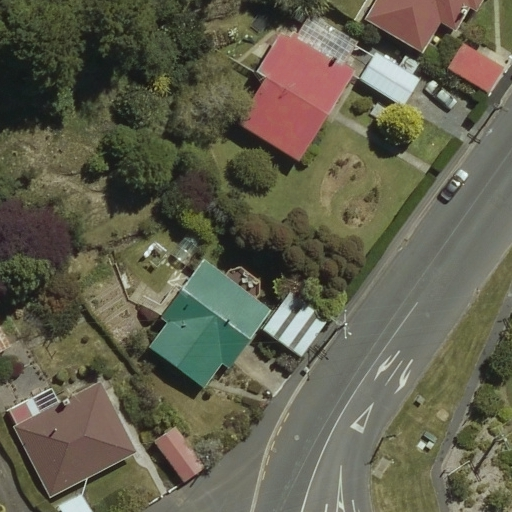DT: (329, 302, 361, 343)
